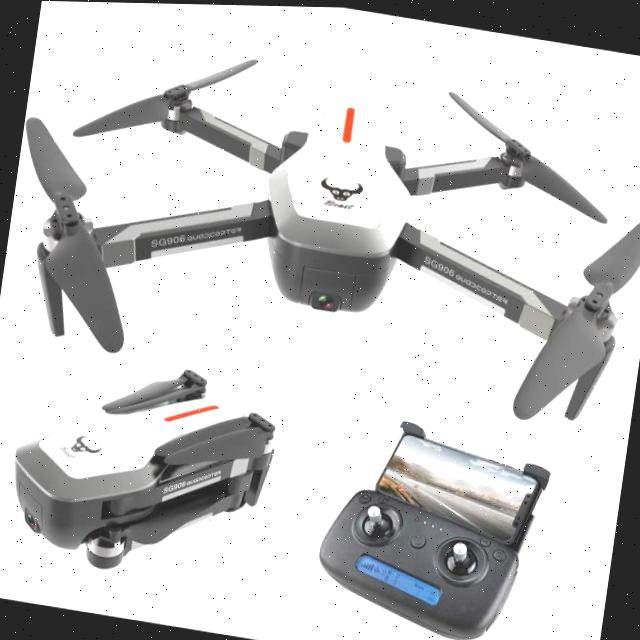drone: (0, 18, 640, 449)
